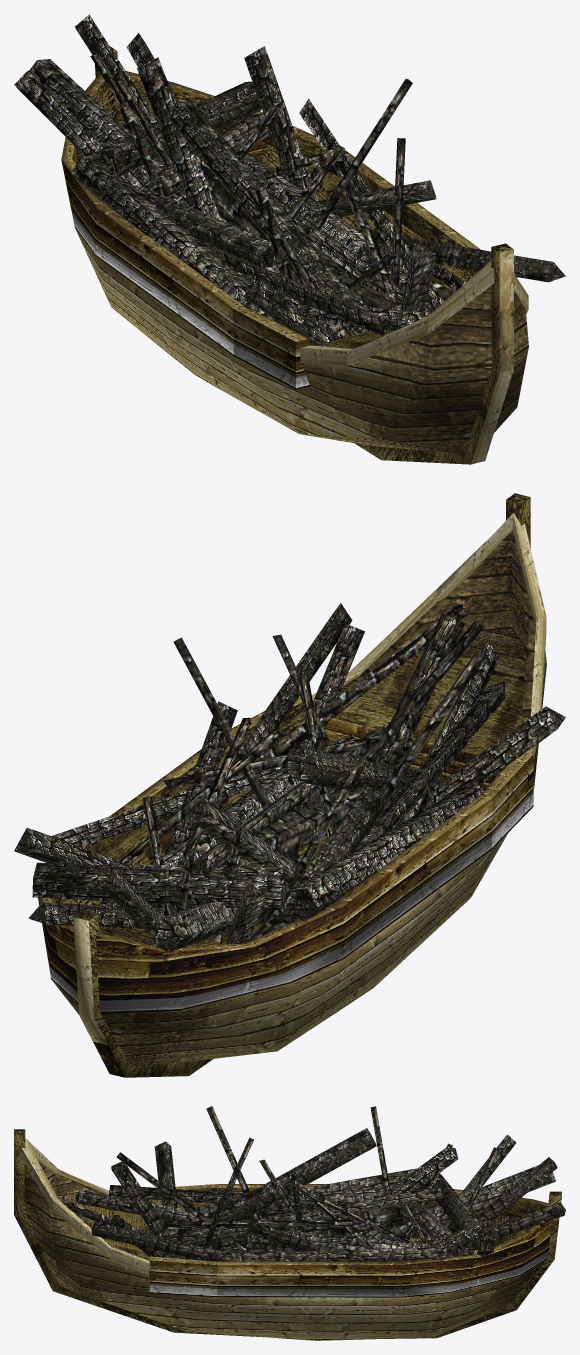
The model's file is brit_ship_fire.glb.
3 renders of one model, top to bottom at view 1: azimuth 30°, elevation 25°; view 2: azimuth 150°, elevation 25°; view 3: azimuth 270°, elevation 25°, orthographic. The views are drawn at different scales.
Visible parts, largest first — view 1: brit_ship_fire_part1, brit_ship_fire_part0; view 2: brit_ship_fire_part1, brit_ship_fire_part0; view 3: brit_ship_fire_part0, brit_ship_fire_part1.
Part boxes in pixels (x1,y1,x2,y2): brit_ship_fire_part1: (14,14,565,345); brit_ship_fire_part0: (61,46,528,464); brit_ship_fire_part1: (14,602,565,952); brit_ship_fire_part0: (38,493,546,1077); brit_ship_fire_part0: (14,1129,561,1340); brit_ship_fire_part1: (57,1106,565,1261).
Size of the model in its own units: 2.75 by 2.88 by 7.
Materials: 2 (2 with a texture image).
